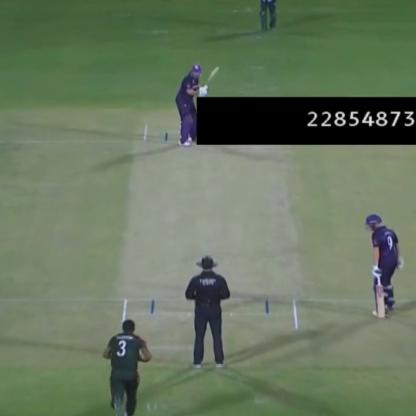pitch: (110, 117, 303, 342)
